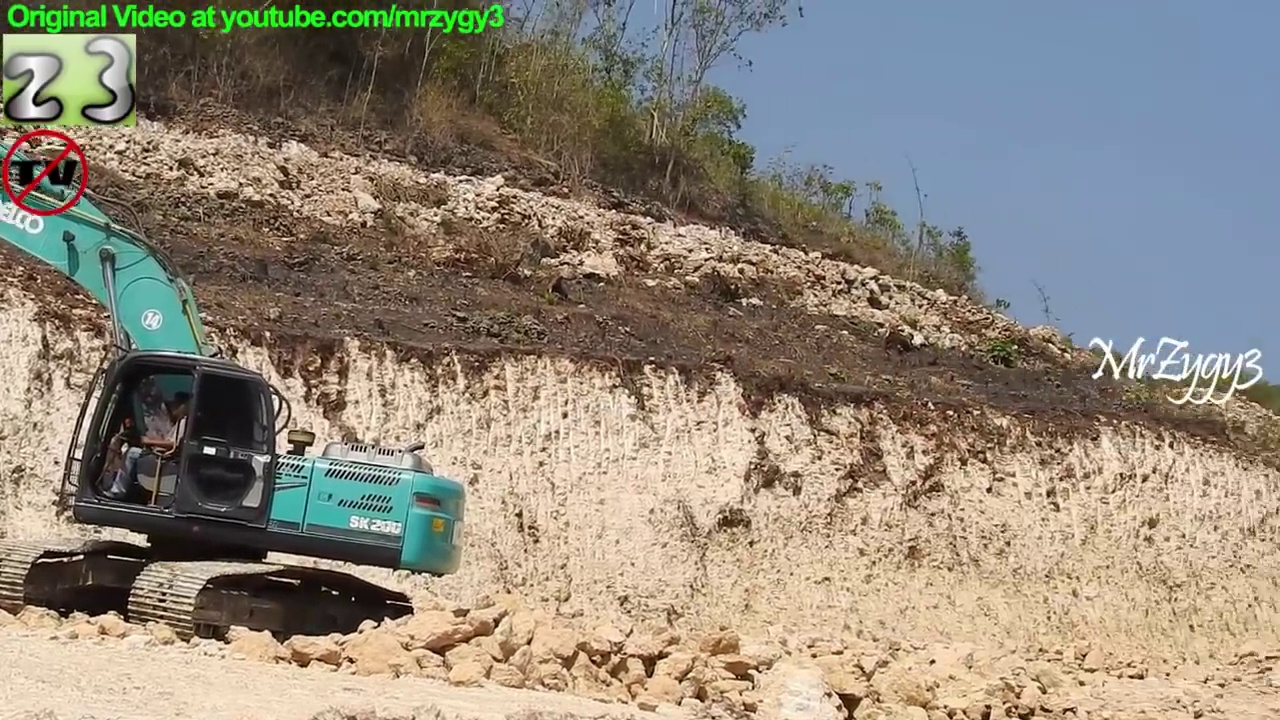excavator: (1, 125, 478, 668)
